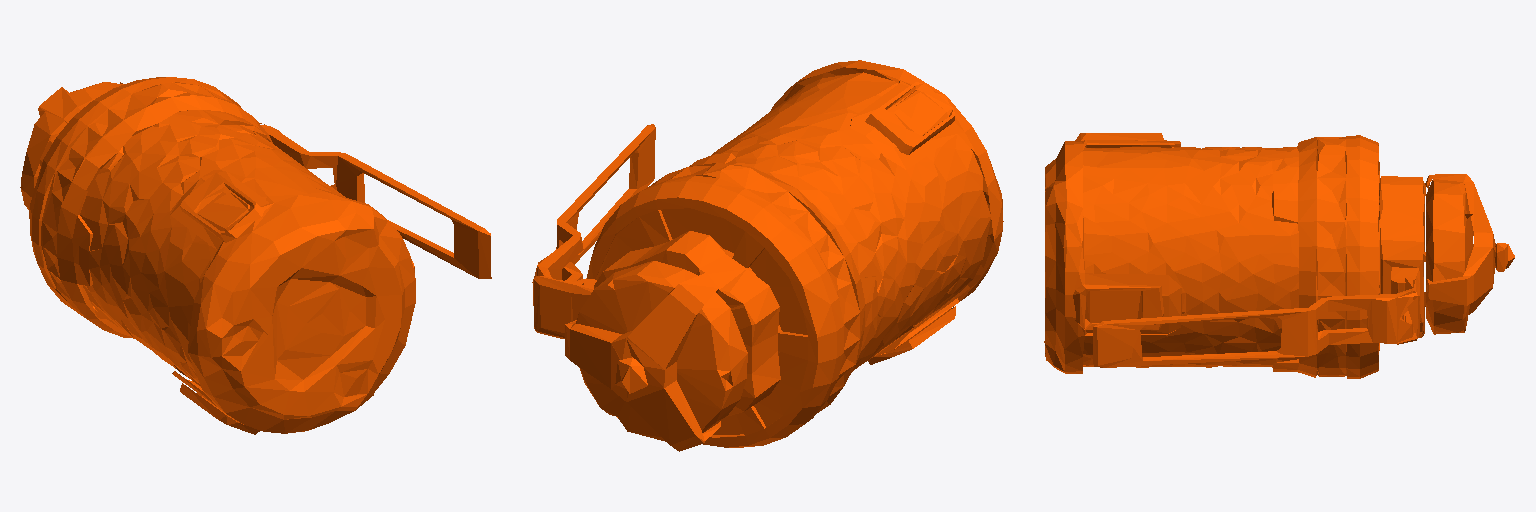
robot.urdf — 346a681887004b819f672376d65f3d54:
<?xml version="1.0" ?>
<robot name="346a681887004b819f672376d65f3d54">
   <material name="obj_color">
      <color rgba="1.0 0.423529411765 0.0392156862745 1.0"/>
   </material>
   <link name="top">
      <inertial>
         <origin rpy="0.0003223050995701739 0.0007248020307087096 0.0007304863592051387" xyz="-0.01330835033766347 -0.01131487004128219 -0.0005054893847671677"/>
         <mass value="0.5440917794659752"/>
         <inertia ixx="0.0007248080082569217" ixy="-3.396786335285648e-06" ixz="-4.347936263507891e-07" iyy="0.0003223357535033687" iyz="9.044212938396113e-07" izz="0.0007304497277237317"/>
      </inertial>
      <visual>
         <origin rpy="0 0 0" xyz="0 0 0"/>
         <geometry>
            <mesh filename="top_watertight_tiny.stl" scale="1 1 1"/>
         </geometry>
         <material name="obj_color"/>
      </visual>
      <collision>
         <origin rpy="0 0 0" xyz="0 0 0"/>
         <geometry>
            <mesh filename="top_watertight_tiny.obj" scale="1 1 1"/>
         </geometry>
      </collision>
   </link>
   <link name="bottom">
      <inertial>
         <origin rpy="1.633333333199431e-08 1.633333333199431e-08 1.633333333362855e-08" xyz="0.3464080000000008 0.3464080000000008 0.3464080000000008"/>
         <mass value="0.0009800000000000017"/>
         <inertia ixx="1.633333333253906e-08" ixy="5.447480642029219e-19" ixz="5.447480642029219e-19" iyy="1.633333333253906e-08" iyz="5.447480642029219e-19" izz="1.633333333253906e-08"/>
      </inertial>
      <visual>
         <origin rpy="0 0 0" xyz="0 0 0"/>
         <geometry>
            <mesh filename="bottom_watertight_tiny.stl" scale="1 1 1"/>
         </geometry>
         <material name="obj_color"/>
      </visual>
   </link>
   <joint name="rotation" type="revolute">
      <origin xyz="0 0 0"/>
      <axis xyz="0 0 -1"/>
      <parent link="bottom"/>
      <child link="top"/>
      <dynamics damping="1.0" friction="1.0"/>
      <limit effort="0.1" velocity="0.1" lower="0" upper="0.001"/>
   </joint>
</robot>

--- Facts derived from the render (not from the file) ---
The picture shows the robot from 3 angles, left to right: view 1: azimuth 30°, elevation 25°; view 2: azimuth 150°, elevation 25°; view 3: azimuth 270°, elevation 25°; orthographic projection.
Robot: 346a681887004b819f672376d65f3d54 — 2 links, 1 joints (1 revolute); root link bottom; default pose: all joints at 0.
Visible links, largest first — view 1: top; view 2: top; view 3: top.
Boxes of the visible links, box(x1,y1,x2,y2) form: top: box(20, 77, 491, 434); top: box(532, 60, 1003, 451); top: box(1044, 133, 1514, 378).
Size in the robot's own frame: 0.1046 by 0.1464 by 0.0771 metres.
Meshes: 2 distinct files referenced, 1 mesh visuals loaded (1 binary STL); not drawn: 1 (reference not matched to a file when rendering).
